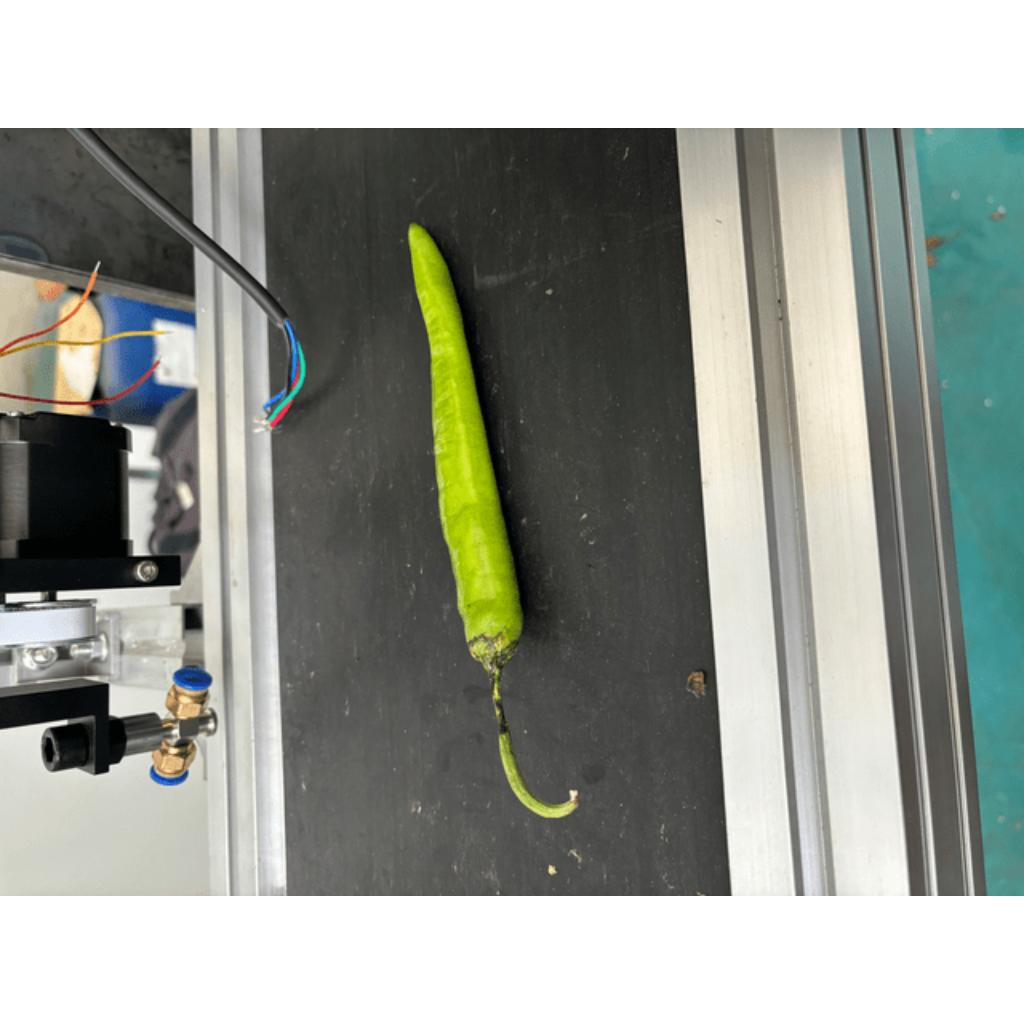chili: (407, 219, 525, 669)
